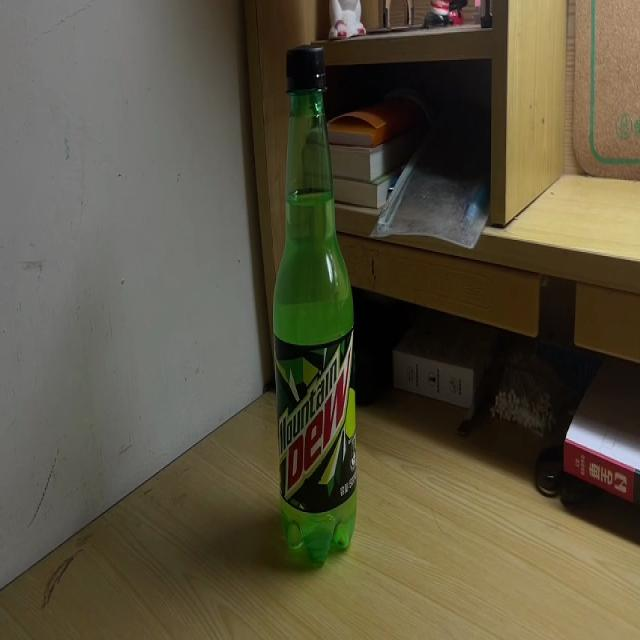Mountain-Dew: (272, 45, 357, 561)
